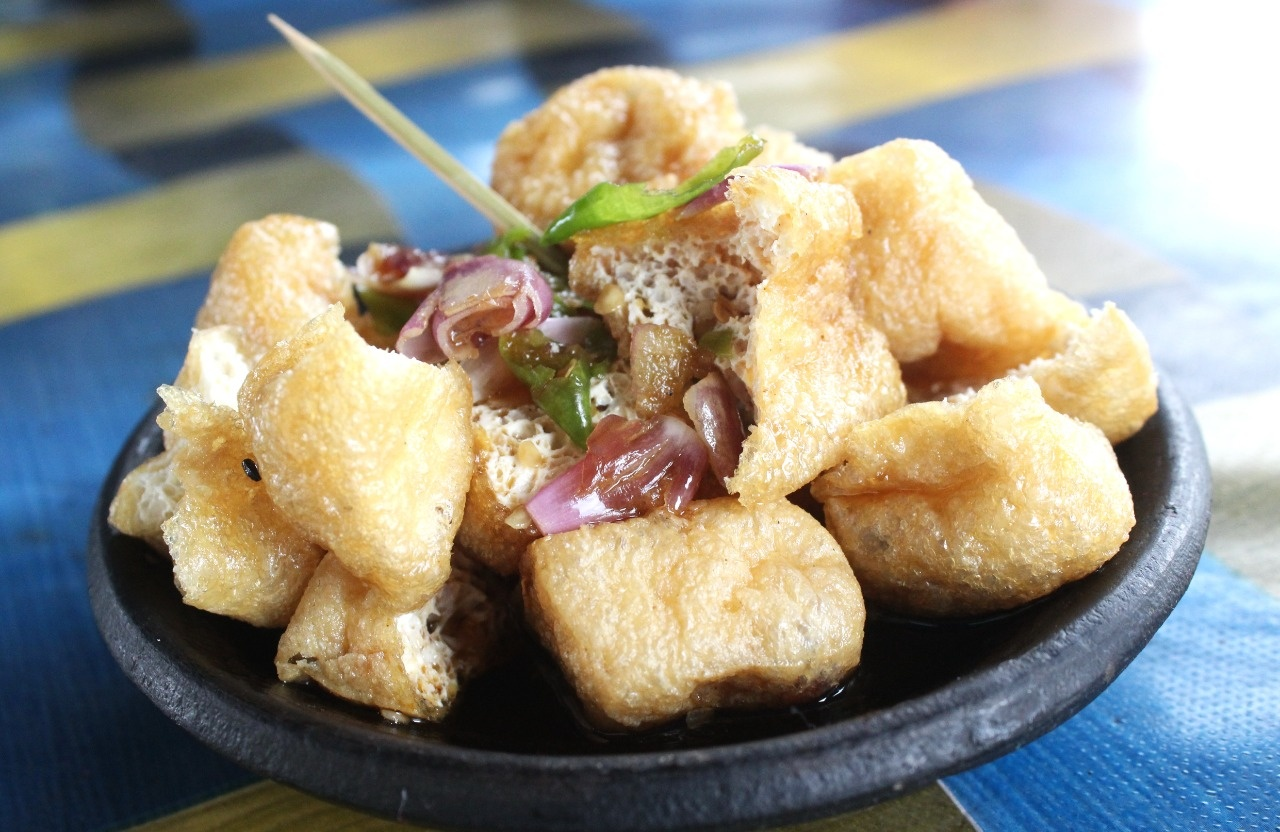tahu_gejrot: (103, 63, 1162, 737)
